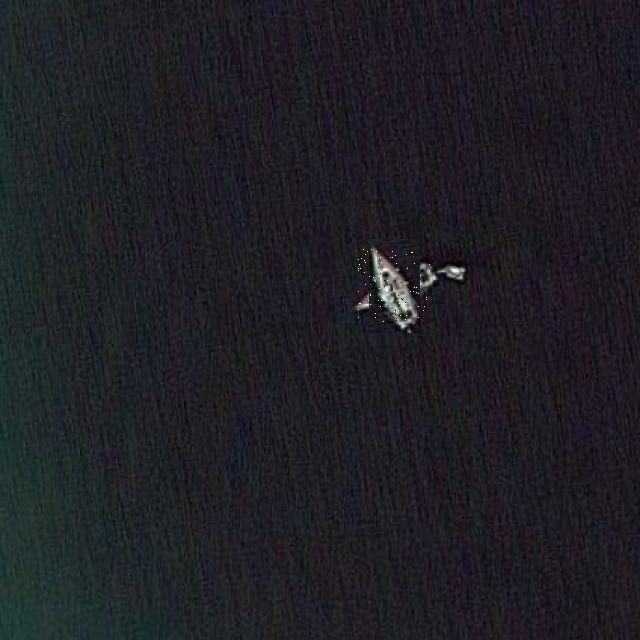boat: (358, 249, 430, 323)
